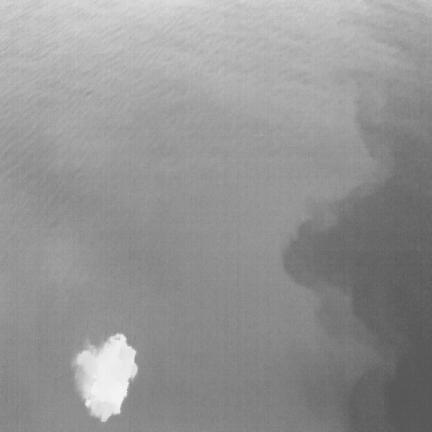flukeprints: (72, 334, 137, 422)
